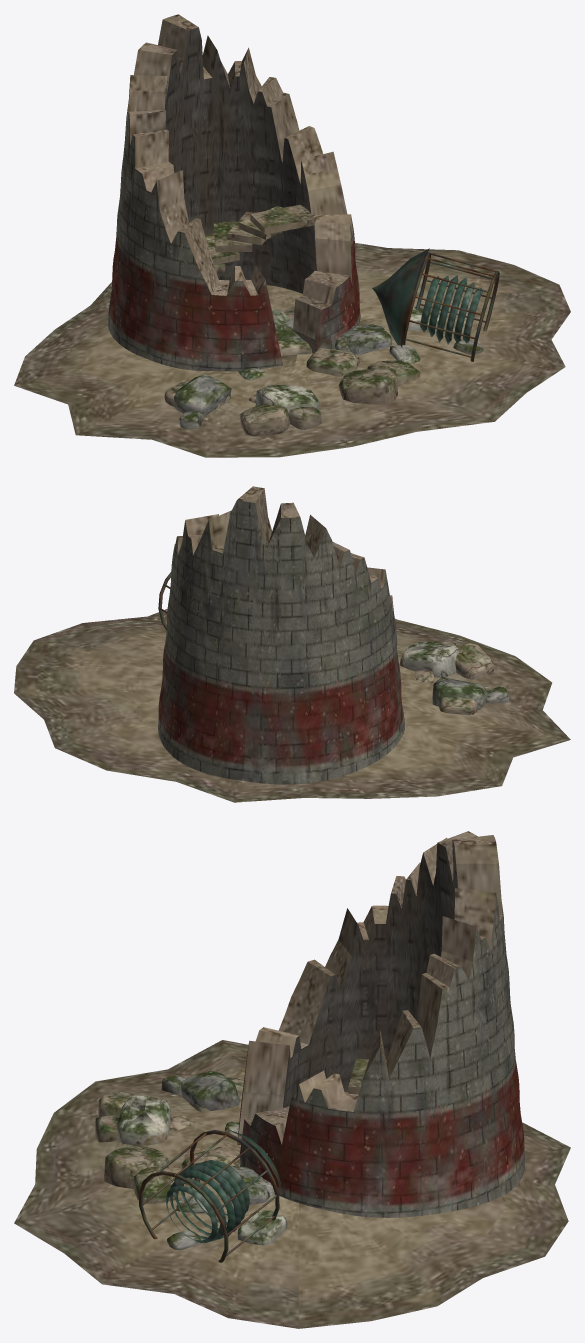
File: kit_lighthouse_stump_hero.glb
3 views of the same model, one above another, from view 1: azimuth 30°, elevation 25°; view 2: azimuth 150°, elevation 25°; view 3: azimuth 270°, elevation 25° (orthographic). The views are drawn at different scales.
Parts seen in each view (by area): view 1: tower, body, lantern, lens; view 2: tower, body; view 3: tower, body, lens, lantern.
Boxes of the visible parts, bbox=[...] form: tower: bbox=[108, 14, 360, 371]; body: bbox=[14, 242, 570, 457]; lantern: bbox=[372, 248, 499, 361]; lens: bbox=[420, 275, 482, 344]; tower: bbox=[158, 486, 404, 784]; body: bbox=[14, 609, 570, 802]; tower: bbox=[237, 831, 524, 1217]; body: bbox=[14, 1040, 570, 1328]; lens: bbox=[165, 1160, 249, 1243]; lantern: bbox=[139, 1129, 282, 1262].
Size of what is drawn, in the model's own units: 10.08 by 5.41 by 8.21.
Materials: 2 (2 with a texture image).
